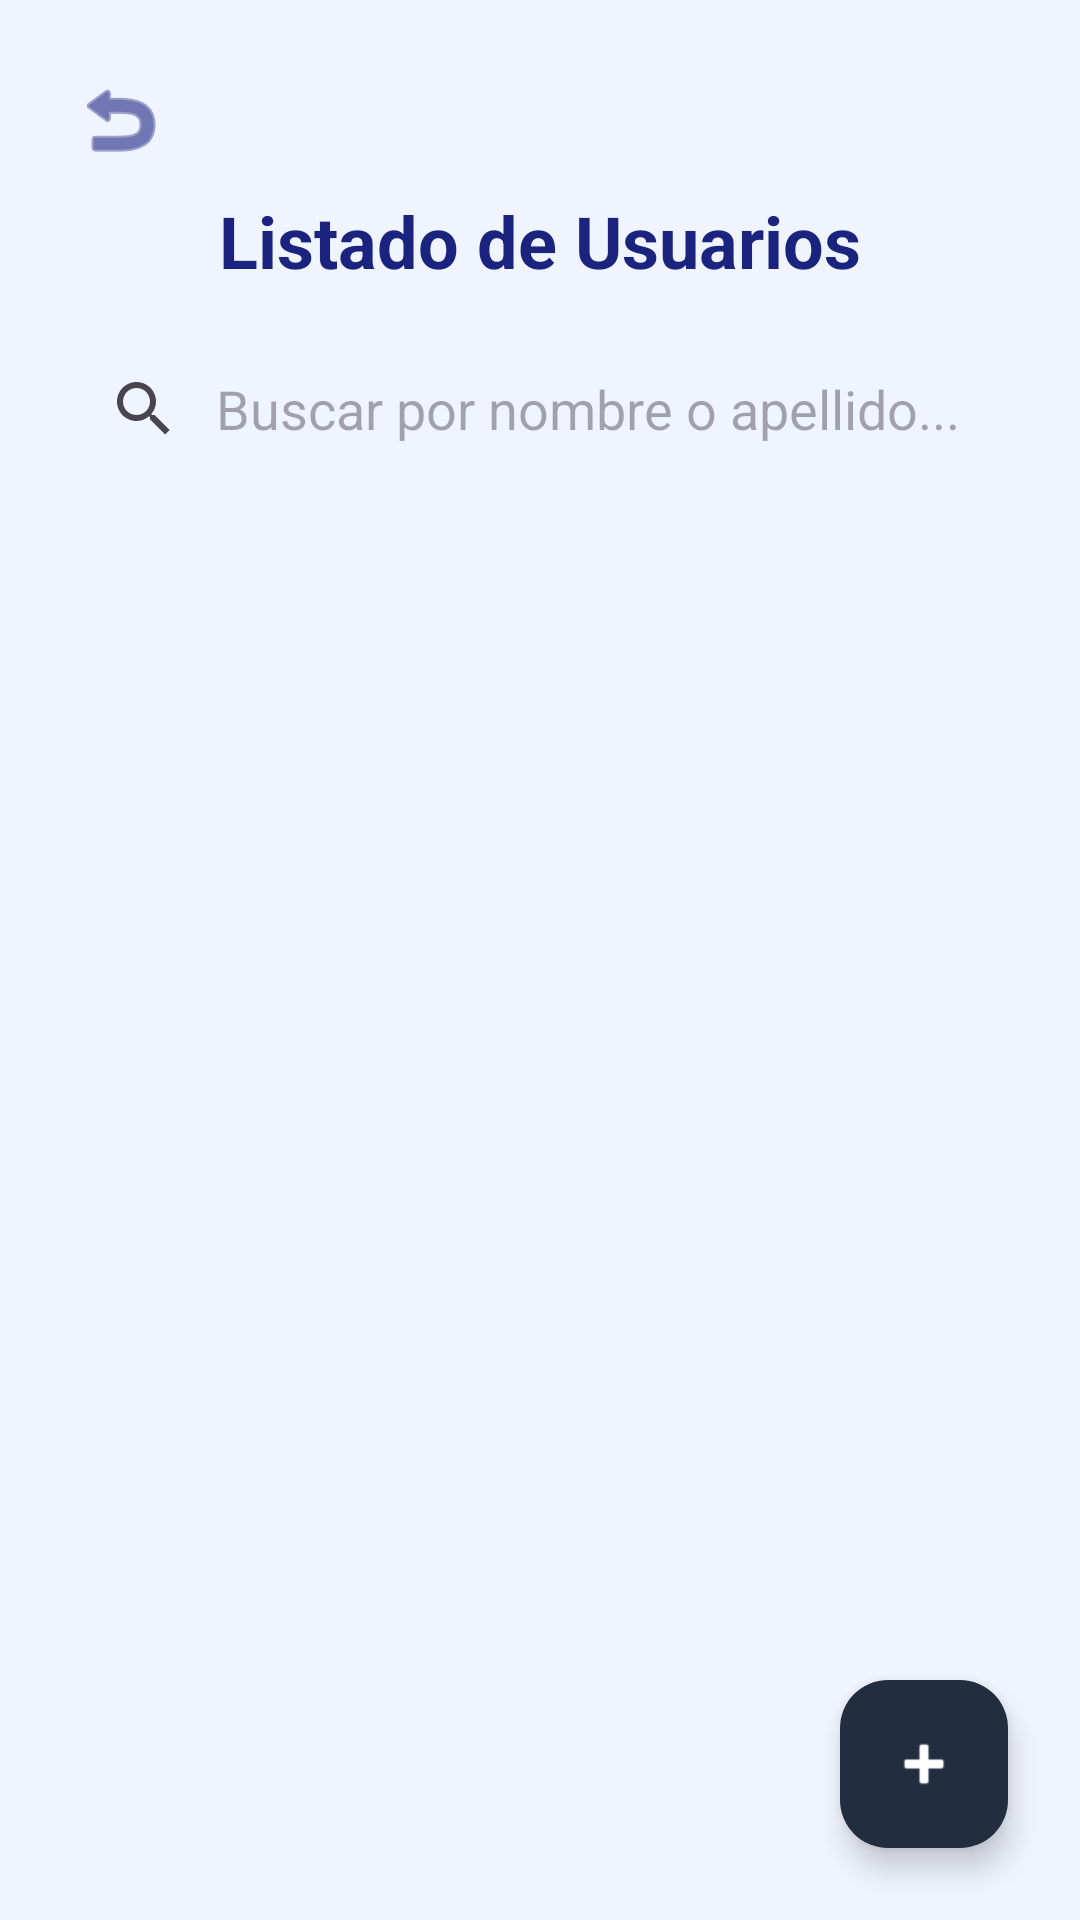

Where icons sit on this 1080 × 1920 app screen, as (x1=x1, y1=y1, x2=x2, y2=y2):
Agregar Usuario: (x1=840, y1=1680, x2=1008, y2=1848)
Volver: (x1=87, y1=89, x2=156, y2=152)
